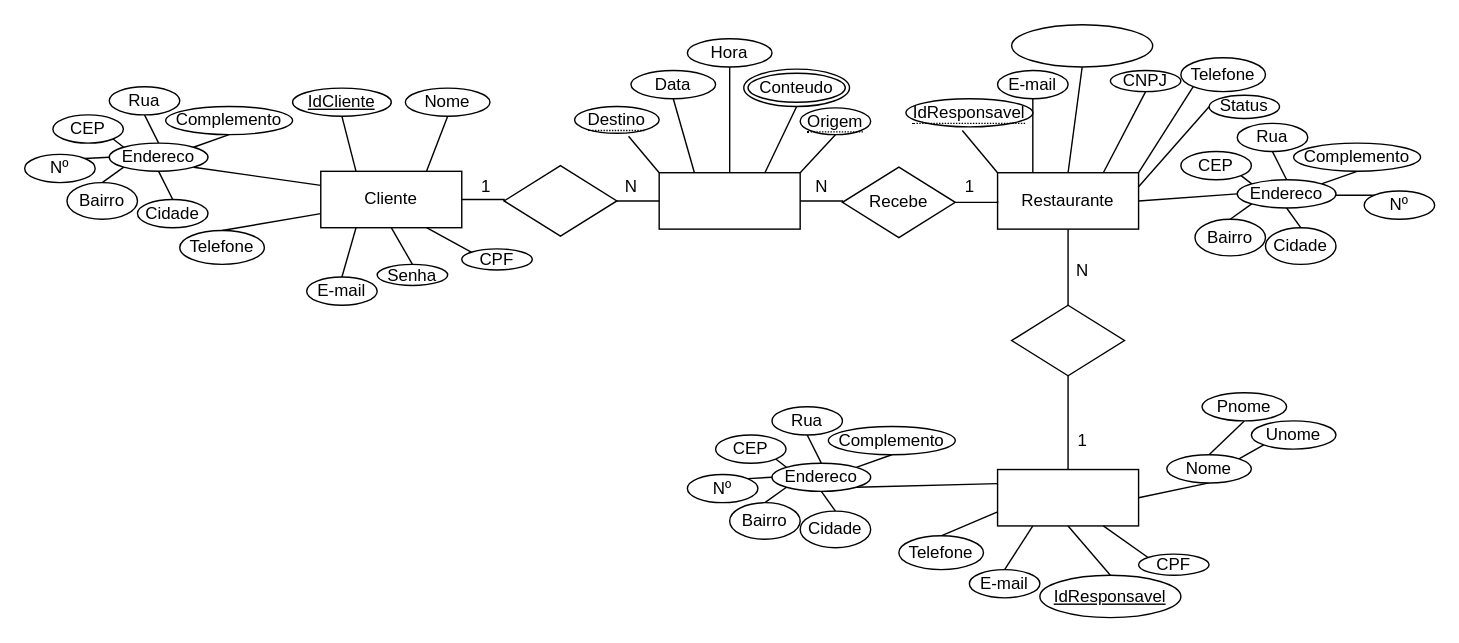
Image size: 1459x643. Some labels were removed from this diagram. The box of each missing label's shape, as (x1, y1, x2, y2) in pixels:
Envia: (503, 164, 617, 236)
IdRestaurante: (1010, 23, 1153, 67)
Mensagem: (658, 171, 800, 229)
Possui: (1010, 304, 1124, 376)
Responsavel: (996, 468, 1139, 526)
